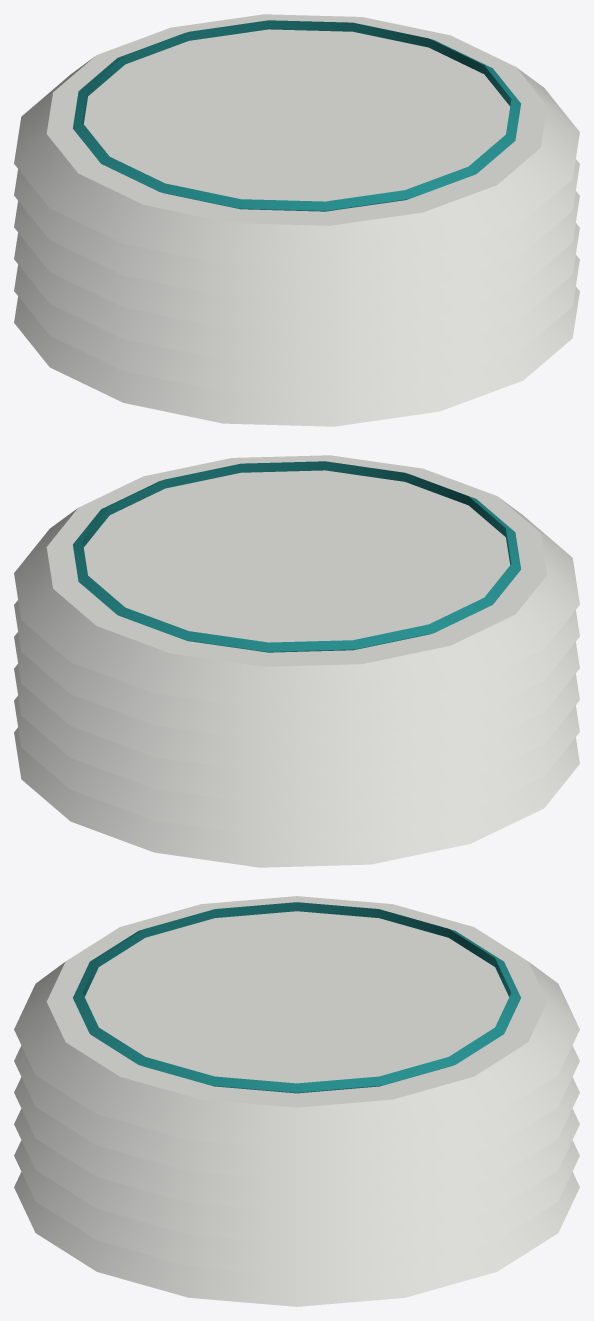
The model's file is tableware_plate_stack.glb.
3 views of the same model, one above another, from view 1: azimuth 30°, elevation 25°; view 2: azimuth 150°, elevation 25°; view 3: azimuth 270°, elevation 25° (orthographic).
Parts seen in each view (by area): view 1: tableware_plate_stack; view 2: tableware_plate_stack; view 3: tableware_plate_stack.
Boxes of the visible parts, x1,y1,x2,y2 form: tableware_plate_stack: (14, 14, 579, 426); tableware_plate_stack: (14, 455, 579, 867); tableware_plate_stack: (14, 896, 579, 1306).
Bounding box in the file's own units: 0.26 × 0.0986 × 0.26.
